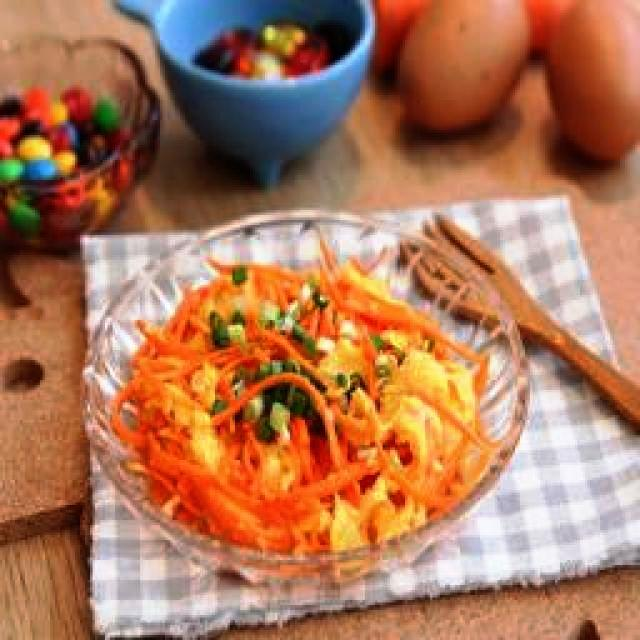carrot_eggs: (110, 246, 502, 561)
